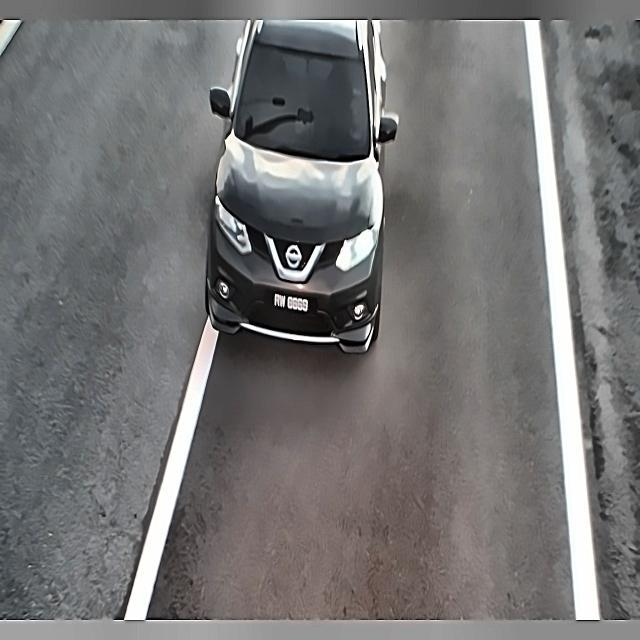car: (268, 279, 313, 323)
